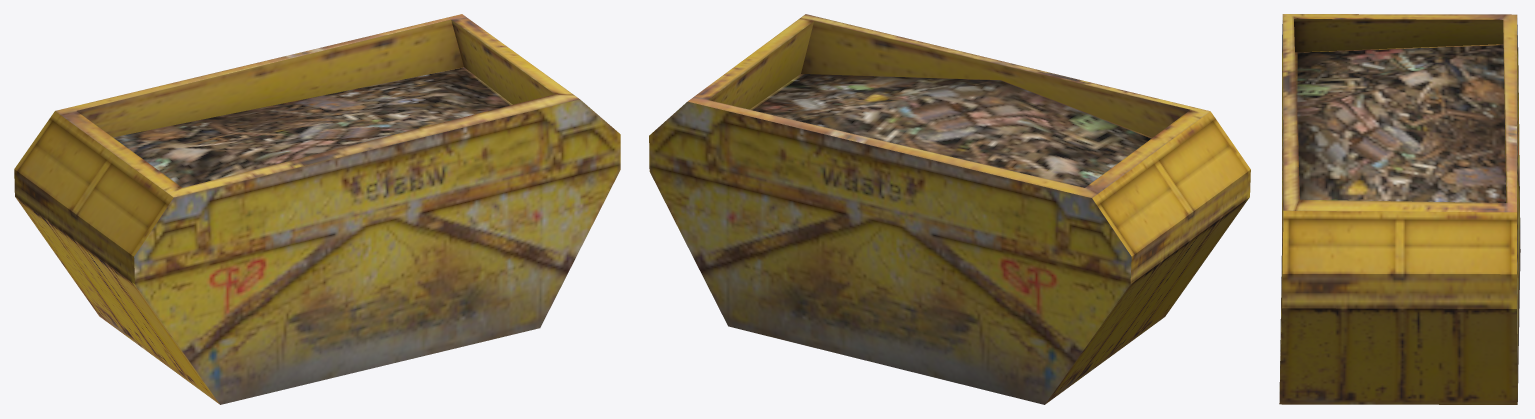
The model's file is container3.fbx.
The picture shows the model from 3 angles, left to right: view 1: azimuth 30°, elevation 25°; view 2: azimuth 150°, elevation 25°; view 3: azimuth 270°, elevation 25°; orthographic projection.
Parts seen in each view (by area): view 1: container03; view 2: container03; view 3: container03.
Part boxes in pixels (x1,y1,x2,y2): container03: (14,14,620,404); container03: (649,14,1250,404); container03: (1279,14,1520,404).
Size of the model in its own units: 391 by 169 by 170.
1 material, 1 textured.
